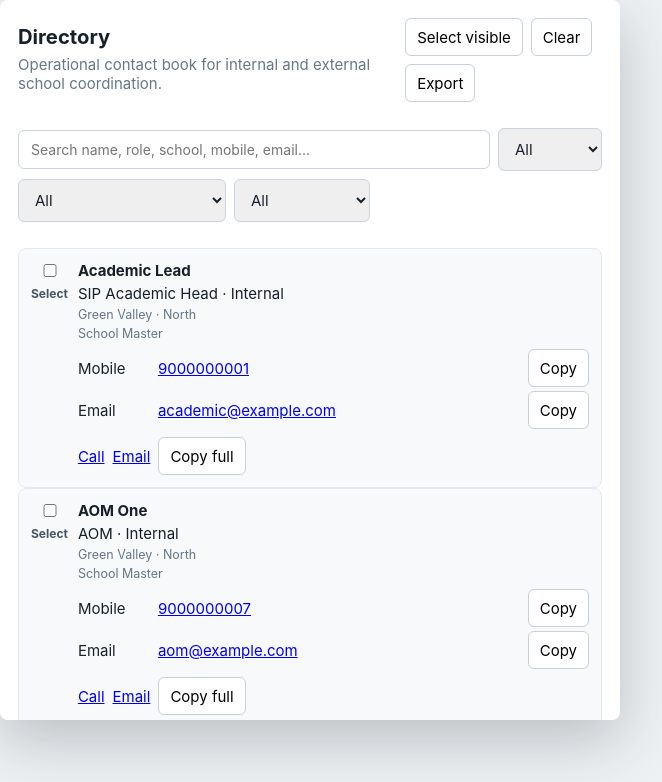
Test: DirectoryPanel › filters contacts and supports visible bulk selection
Type "Sharma" into the search field named "search directory" at (254, 150), box [18,130,490,169]
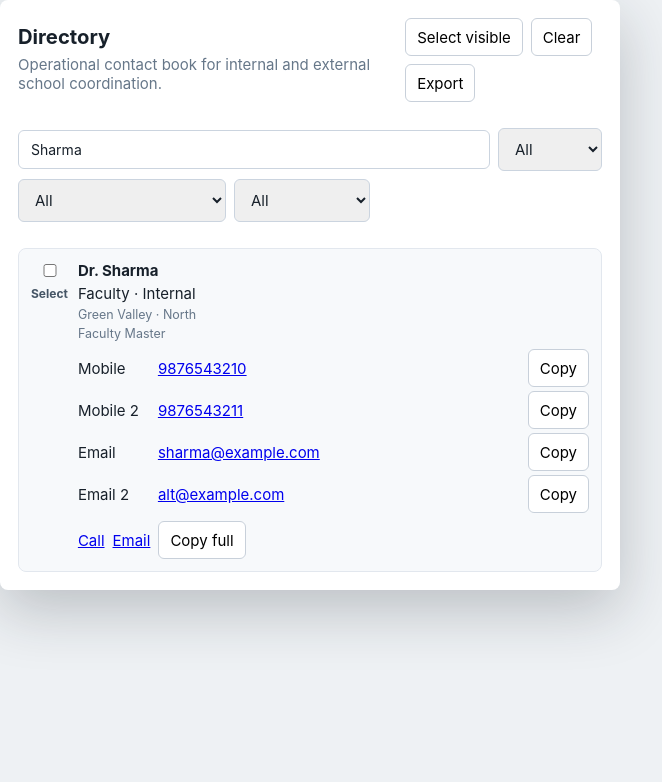
Expected: the text "Dr. Sharma" is shown, [78,261,158,280]
Click the button "Select visible" at (464, 37), box [405,18,523,56]
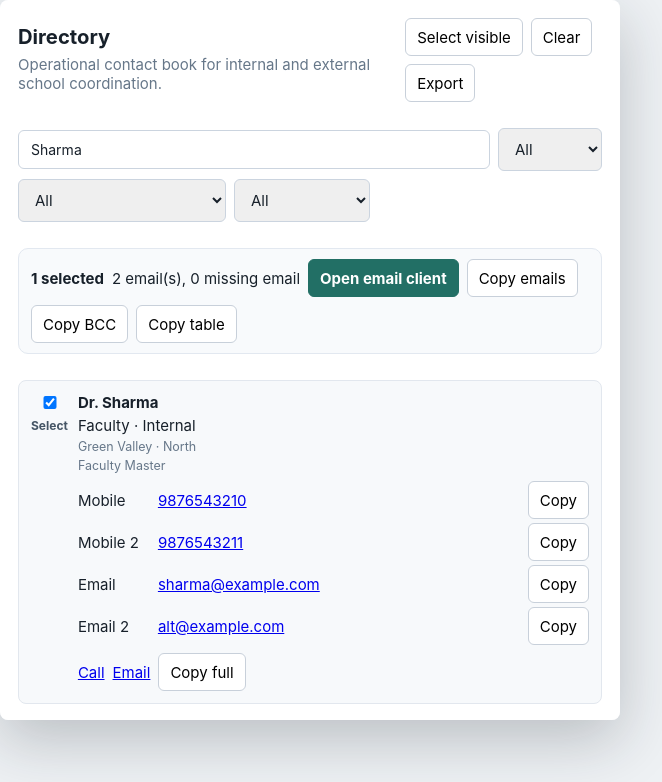
Expected: the text "1 selected" is shown, [31,268,104,288]
Expected: the text "2 email(s), 0 missing email" is shown, [112,268,300,288]
